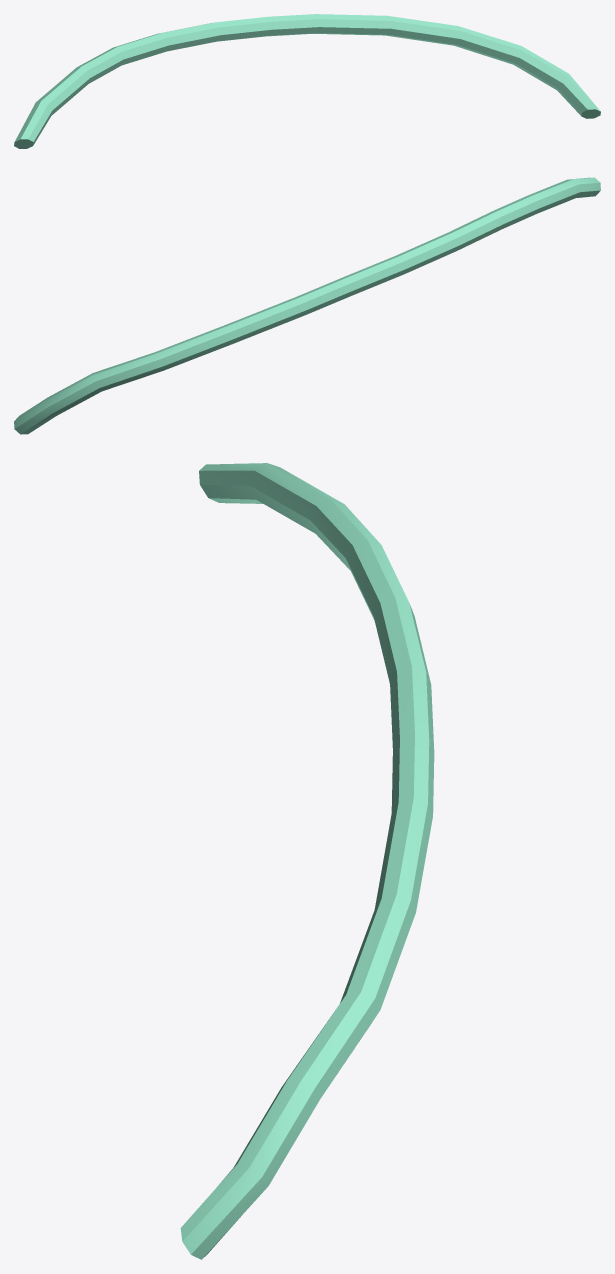
The model's file is Analyzer_Kabel2.fbx.
3 views of the same model, one above another, from view 1: azimuth 30°, elevation 25°; view 2: azimuth 210°, elevation 25°; view 3: azimuth 270°, elevation 25° (orthographic). The views are drawn at different scales.
Parts seen in each view (by area): view 1: pasted__pCylinder17; view 2: pasted__pCylinder17; view 3: pasted__pCylinder17.
Boxes of the visible parts, x1,y1,x2,y2 form: pasted__pCylinder17: [14, 14, 600, 148]; pasted__pCylinder17: [14, 177, 600, 434]; pasted__pCylinder17: [180, 463, 434, 1259].
Bounding box in the file's own units: 32.25 × 7.85 × 6.11.
